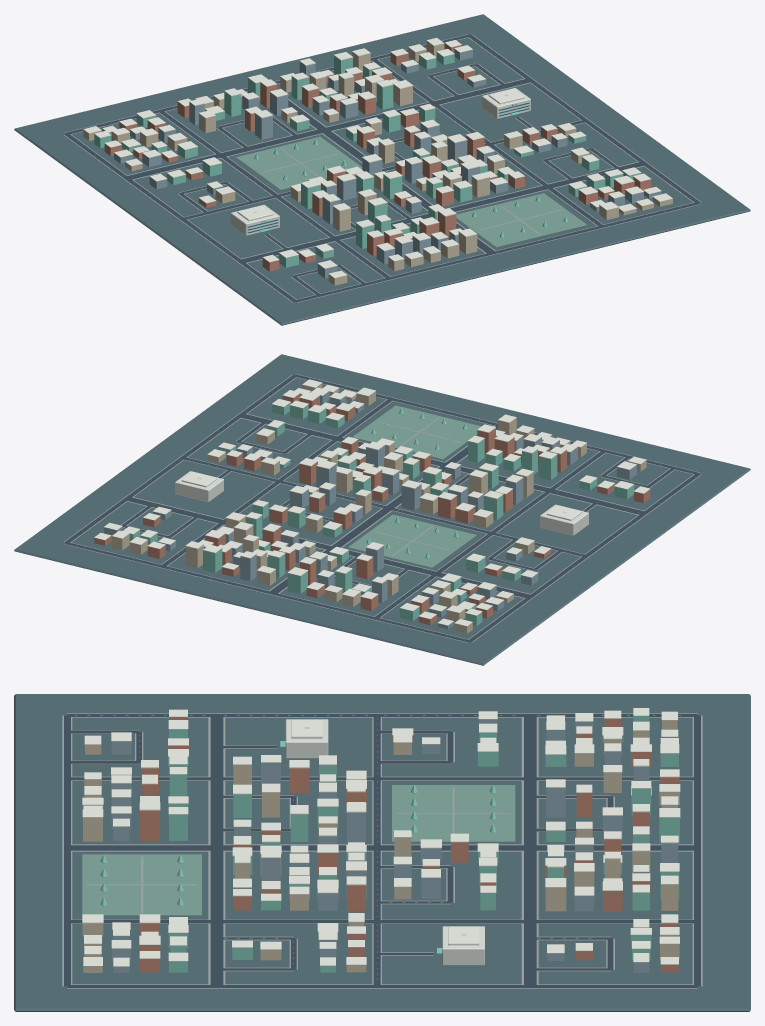
File: city_static.glb
3 views of the same model, one above another, from view 1: azimuth 30°, elevation 25°; view 2: azimuth 150°, elevation 25°; view 3: azimuth 270°, elevation 25° (orthographic). The views are drawn at different scales.
Visible parts, largest first — view 1: city_static_batched; view 2: city_static_batched; view 3: city_static_batched.
Part boxes in pixels (bbox=[...]): city_static_batched: bbox=[14, 14, 750, 325]; city_static_batched: bbox=[14, 354, 750, 665]; city_static_batched: bbox=[14, 694, 750, 1011].
Bounding box in the file's own units: 1050 × 54.94 × 1035.
